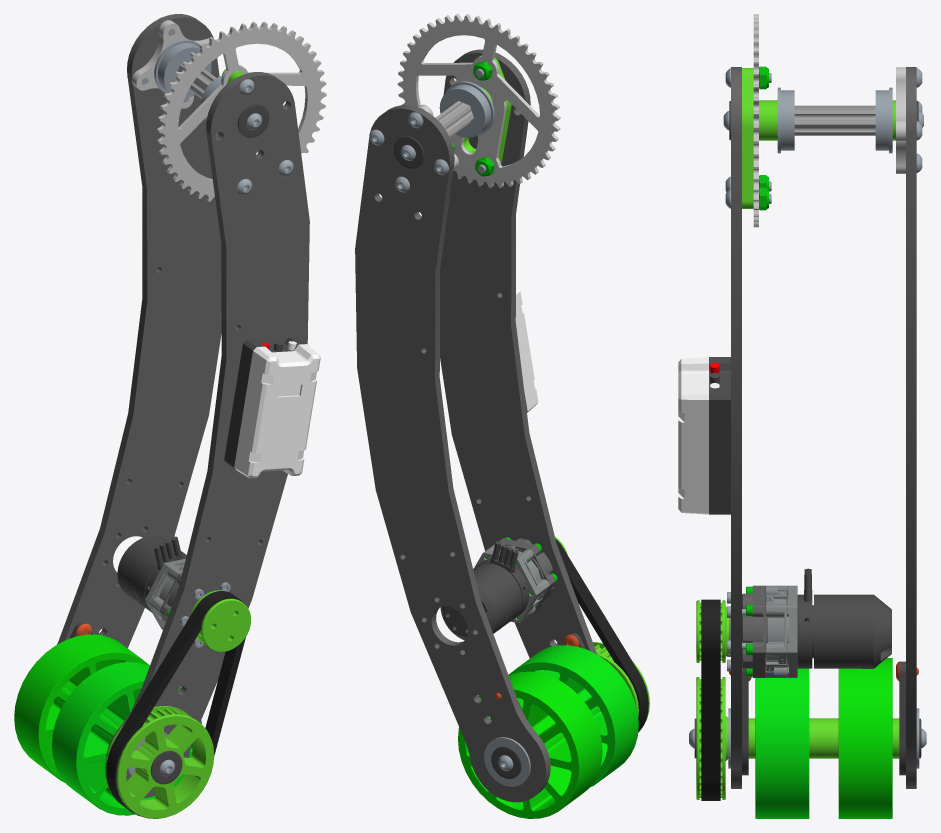
3 views of the same model, side by side, from view 1: azimuth 30°, elevation 25°; view 2: azimuth 150°, elevation 25°; view 3: azimuth 270°, elevation 25° (orthographic). The views are drawn at different scales.
Parts seen in each view (by area): view 1: 902 Algae Arm Side Piece, 902 Algae Arm Side Piece.001, Simplified SPARK MAX, 923 Algae Arm Driven Sprocket, am-3946 3IN 500Hex Molded Compliant Wheel VER 2.002, 907 Roller Pulley, am-3946 3IN 500Hex Molded Compliant Wheel VER 2, 60 Tooth x 9mm HTD5 Belt, NEO 550 Motor (REV-21-1651), 906 Roller Drive Pulley, .5" Hex ID 1.125" OD Flanged Bearing (217-2734).002, 909 Arm Torque Plate (+3 smaller); view 2: 902 Algae Arm Side Piece, 902 Algae Arm Side Piece.001, 923 Algae Arm Driven Sprocket, am-3946 3IN 500Hex Molded Compliant Wheel VER 2, am-3946 3IN 500Hex Molded Compliant Wheel VER 2.002, NEO 550 Motor (REV-21-1651), 60 Tooth x 9mm HTD5 Belt, .5" Hex ID 1.125" OD Flanged Bearing (217-2734).003, Simplified SPARK MAX, .5" Hex ID 1.125" OD Flanged Bearing (217-2734), 910 Pivot Shaft, REV-41-1607 (+5 smaller); view 3: am-3946 3IN 500Hex Molded Compliant Wheel VER 2, Simplified SPARK MAX, 902 Algae Arm Side Piece, 902 Algae Arm Side Piece.001, am-3946 3IN 500Hex Molded Compliant Wheel VER 2.002, NEO 550 Motor (REV-21-1651), 60 Tooth x 9mm HTD5 Belt, 910 Pivot Shaft, REV-40-1618, 924 Algae Arm Drive Spacer, 907 Roller Pulley, 923 Algae Arm Driven Sprocket (+11 smaller).
Part boxes in pixels (x1,y1,x2,y2): 902 Algae Arm Side Piece: [57, 14, 221, 648]; 902 Algae Arm Side Piece.001: [106, 72, 309, 798]; Simplified SPARK MAX: [224, 336, 320, 478]; 923 Algae Arm Driven Sprocket: [157, 21, 326, 201]; am-3946 3IN 500Hex Molded Compliant Wheel VER 2.002: [52, 662, 201, 815]; 907 Roller Pulley: [105, 706, 214, 818]; am-3946 3IN 500Hex Molded Compliant Wheel VER 2: [14, 634, 149, 782]; 60 Tooth x 9mm HTD5 Belt: [106, 591, 245, 815]; NEO 550 Motor (REV-21-1651): [117, 536, 186, 612]; 906 Roller Drive Pulley: [190, 590, 250, 652]; .5" Hex ID 1.125" OD Flanged Bearing (217-2734).002: [154, 39, 211, 97]; 909 Arm Torque Plate: [132, 20, 209, 108]; 902 Algae Arm Side Piece: [355, 105, 550, 802]; 902 Algae Arm Side Piece.001: [440, 49, 597, 658]; 923 Algae Arm Driven Sprocket: [397, 14, 560, 188]; am-3946 3IN 500Hex Molded Compliant Wheel VER 2: [458, 671, 602, 818]; am-3946 3IN 500Hex Molded Compliant Wheel VER 2.002: [508, 645, 638, 787]; NEO 550 Motor (REV-21-1651): [440, 541, 528, 640]; 60 Tooth x 9mm HTD5 Belt: [555, 539, 648, 732]; .5" Hex ID 1.125" OD Flanged Bearing (217-2734).003: [439, 81, 494, 137]; Simplified SPARK MAX: [515, 288, 538, 412]; .5" Hex ID 1.125" OD Flanged Bearing (217-2734): [484, 737, 530, 786]; 910 Pivot Shaft: [435, 101, 473, 137]; REV-41-1607: [474, 549, 540, 623]; am-3946 3IN 500Hex Molded Compliant Wheel VER 2: [838, 658, 892, 818]; Simplified SPARK MAX: [678, 357, 730, 514]; 902 Algae Arm Side Piece: [906, 67, 916, 788]; 902 Algae Arm Side Piece.001: [731, 67, 741, 788]; am-3946 3IN 500Hex Molded Compliant Wheel VER 2.002: [755, 668, 809, 818]; NEO 550 Motor (REV-21-1651): [797, 568, 891, 668]; 60 Tooth x 9mm HTD5 Belt: [701, 599, 720, 800]; 910 Pivot Shaft: [794, 105, 875, 135]; REV-40-1618: [765, 585, 788, 677]; 924 Algae Arm Drive Spacer: [742, 68, 753, 208]; 907 Roller Pulley: [696, 677, 728, 799]; 923 Algae Arm Driven Sprocket: [753, 14, 758, 227].
Bounding box in the file's own units: 0.1502 × 0.4386 × 0.1172.
